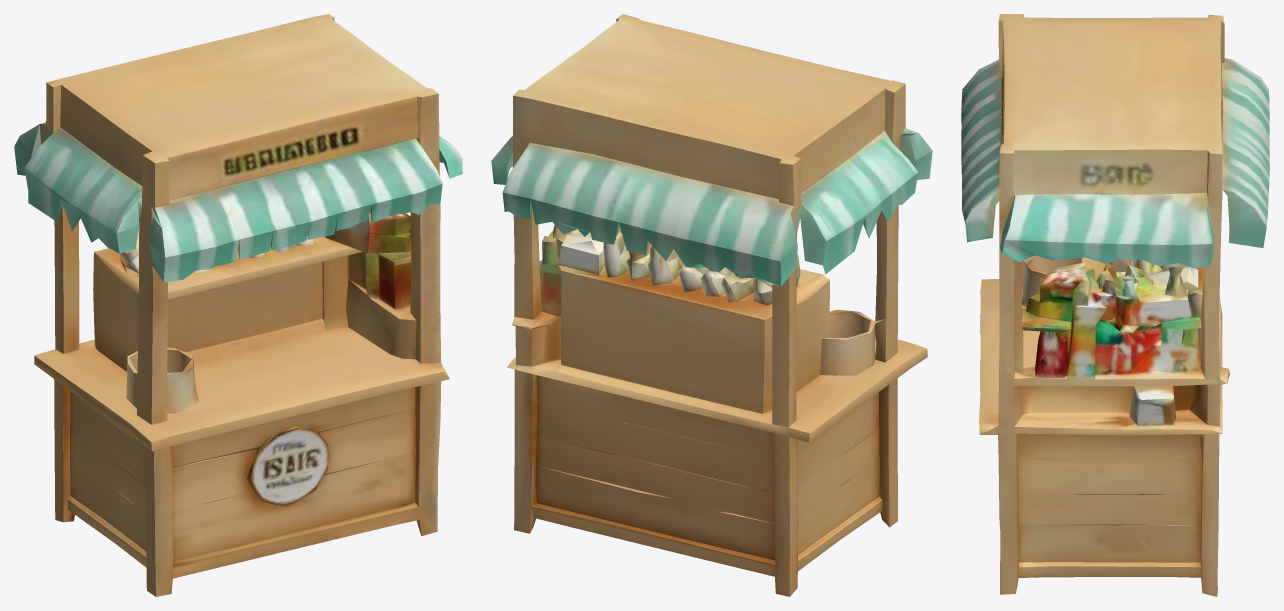
File: zooKiosk.glb
The picture shows the model from 3 angles, left to right: view 1: azimuth 30°, elevation 25°; view 2: azimuth 150°, elevation 25°; view 3: azimuth 270°, elevation 25°; orthographic projection.
Visible parts, largest first — view 1: model; view 2: model; view 3: model.
Part boxes in pixels (x1,y1,x2,y2): model: (14,14,462,596); model: (491,14,932,596); model: (961,14,1269,596).
Bounding box in the file's own units: 1.52 × 1.9 × 1.19.
1 material, 1 textured.
